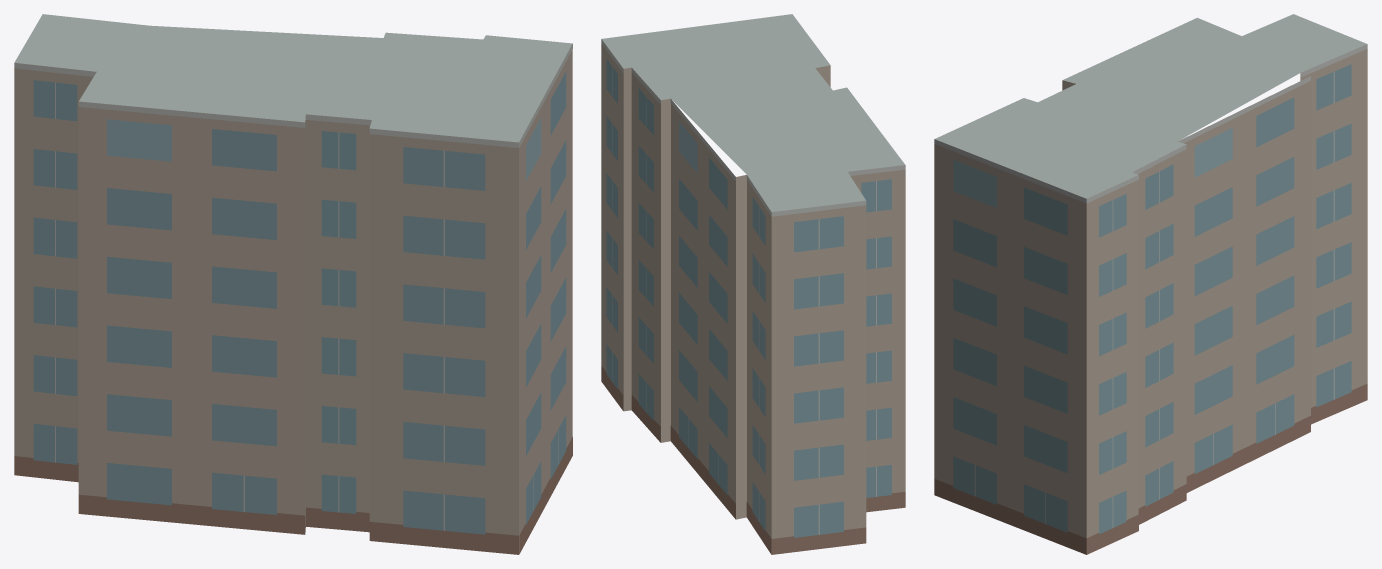
The model's file is survey-upis-32978186.glb.
3 renders of one model, left to right at view 1: azimuth 30°, elevation 25°; view 2: azimuth 150°, elevation 25°; view 3: azimuth 270°, elevation 25°, orthographic. The views are drawn at different scales.
Visible parts, largest first — view 1: survey-upis-32978186.tmp; view 2: survey-upis-32978186.tmp; view 3: survey-upis-32978186.tmp.
Part boxes in pixels (bbox=[...]): survey-upis-32978186.tmp: bbox=[14, 14, 572, 554]; survey-upis-32978186.tmp: bbox=[601, 14, 905, 554]; survey-upis-32978186.tmp: bbox=[934, 14, 1367, 554].
Bounding box in the file's own units: 20.38 × 18.3 × 20.18.
